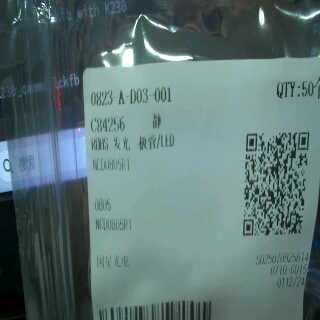LED: (114, 130, 177, 151)
